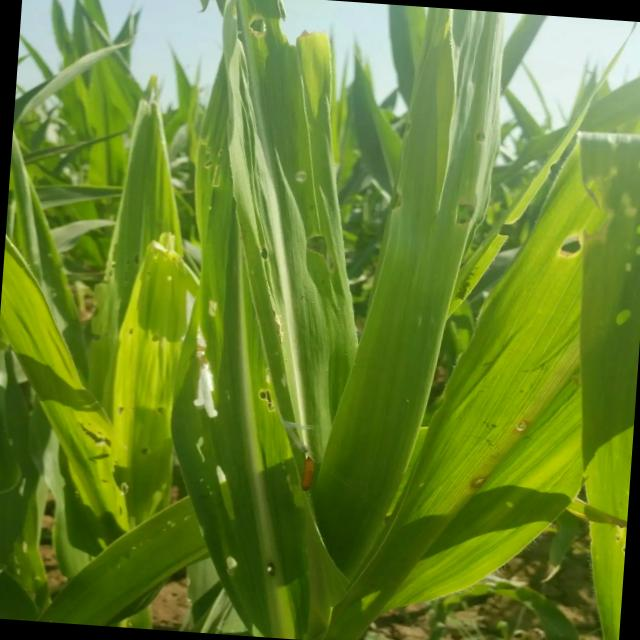pest: (294, 456, 328, 487)
